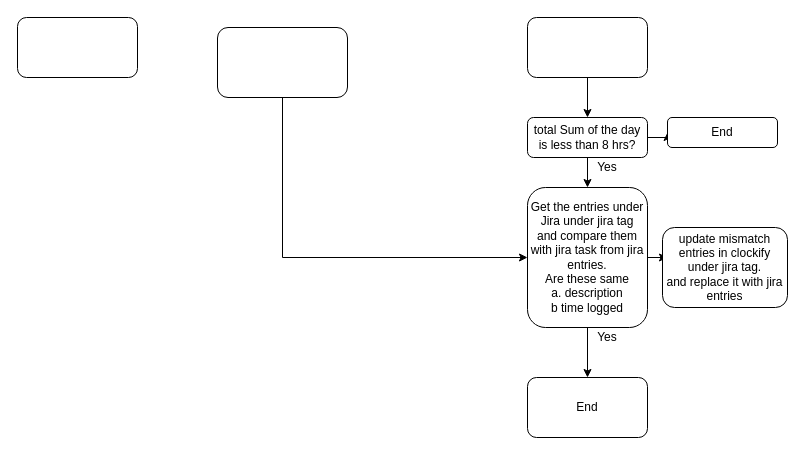
Image size: 805x455. Some labels were removed from this diagram. The centre of each missing label's shape, as x and y in pixels:
For a user & for a given day: the point at 77,47
Get clockify entries for the day: the point at 587,47
get data from JIRA jira task with work log entry less than 8 hrs with valid tags: the point at 282,62
